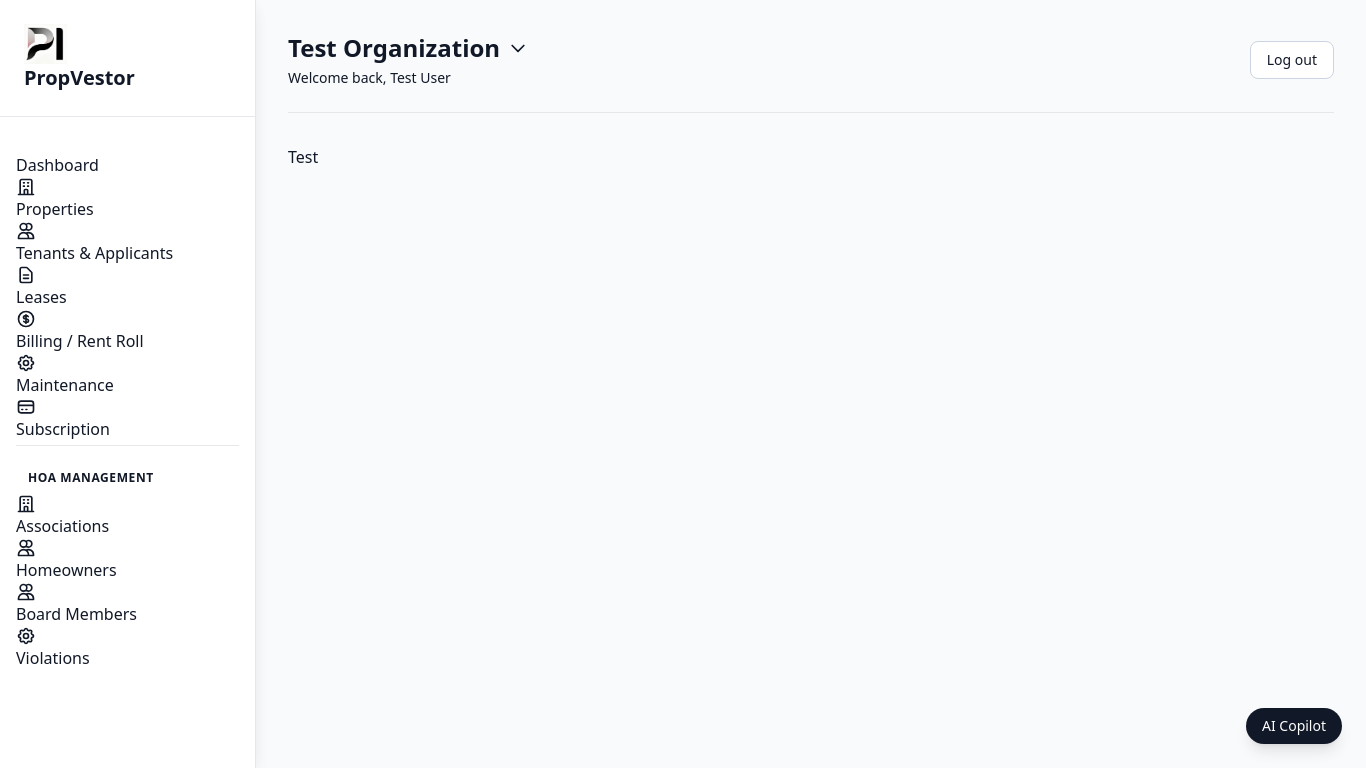
it: Layout › should open organization menu when organization name is clicked
This screenshot has width=1366, height=768.
Click the button "Test Organization" at (408, 48), box [288, 32, 528, 64]
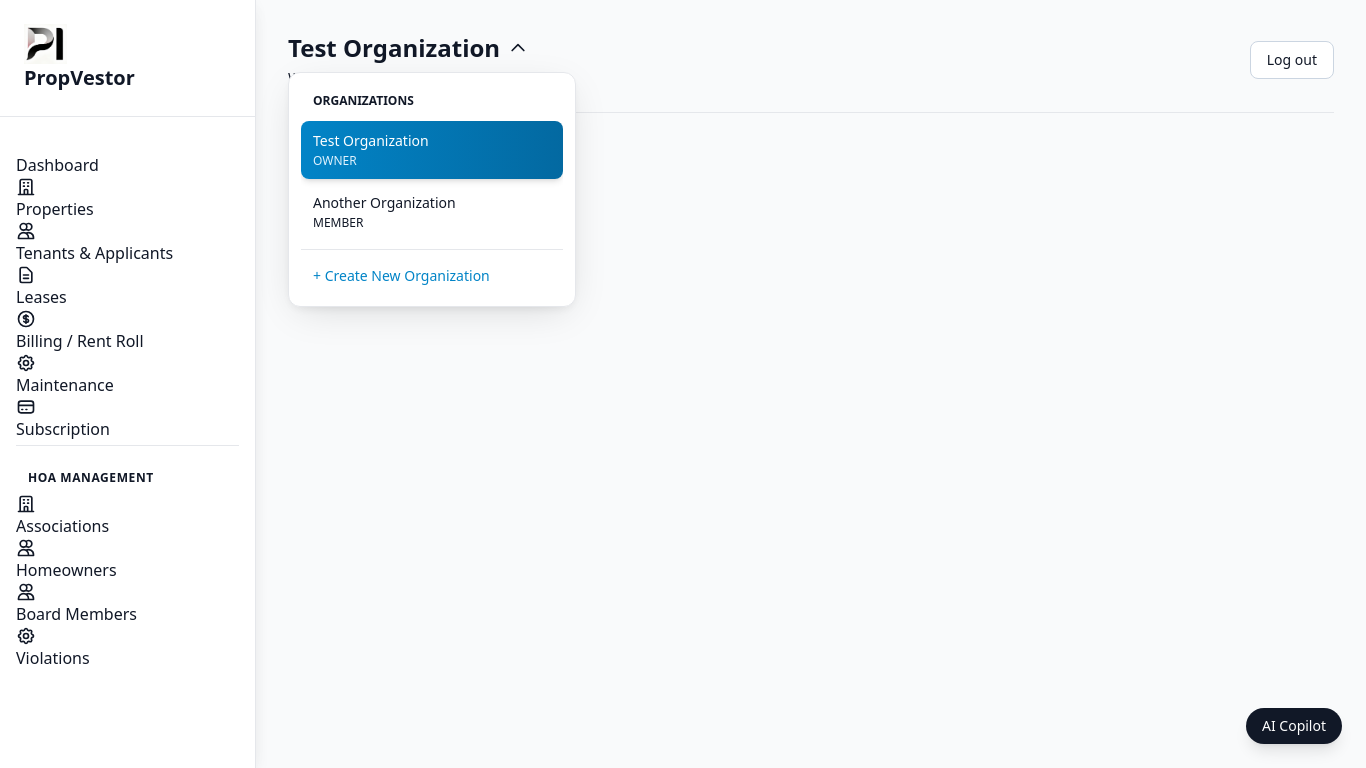
Expected: the text "Another Organization" is shown, [313, 193, 456, 212]
